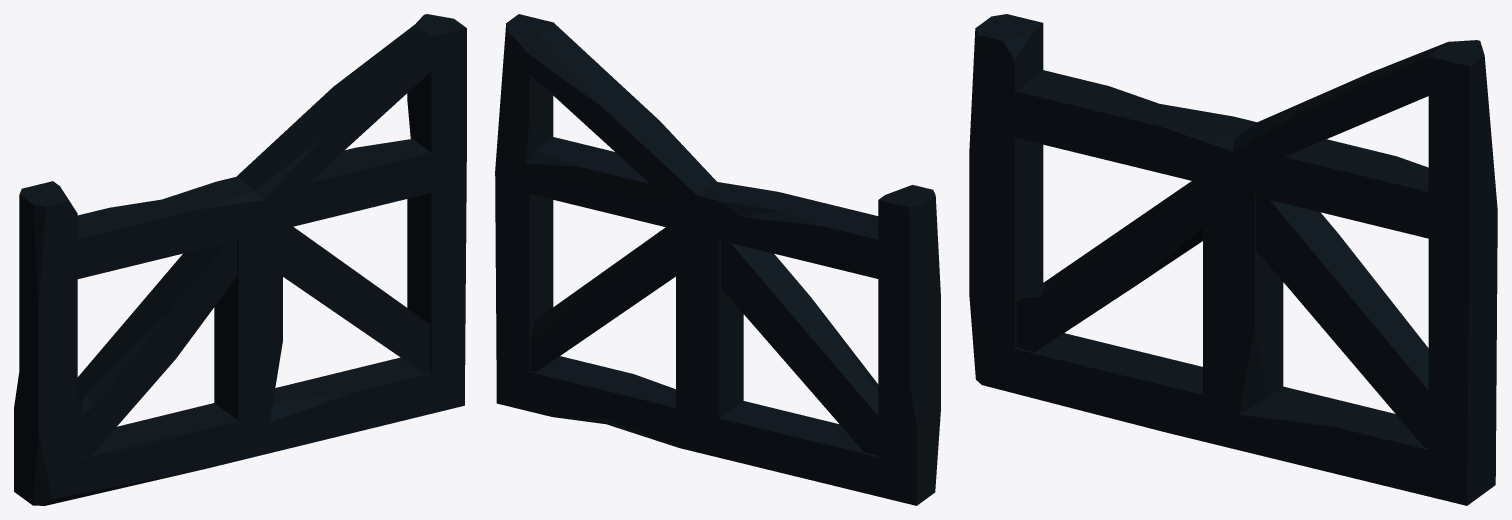
File: Gate_Door_Right.001_4.fbx
3 views of the same model, side by side, from view 1: azimuth 30°, elevation 25°; view 2: azimuth 150°, elevation 25°; view 3: azimuth 330°, elevation 25° (orthographic). The views are drawn at different scales.
Parts seen in each view (by area): view 1: Gate_Door_Right.001_4; view 2: Gate_Door_Right.001_4; view 3: Gate_Door_Right.001_4.
Part boxes in pixels (x1=…): Gate_Door_Right.001_4: x1=14, y1=14, x2=466, y2=505; Gate_Door_Right.001_4: x1=495, y1=14, x2=940, y2=505; Gate_Door_Right.001_4: x1=969, y1=14, x2=1497, y2=505.
Size of the model in its own units: 41.76 by 35.11 by 4.14.
